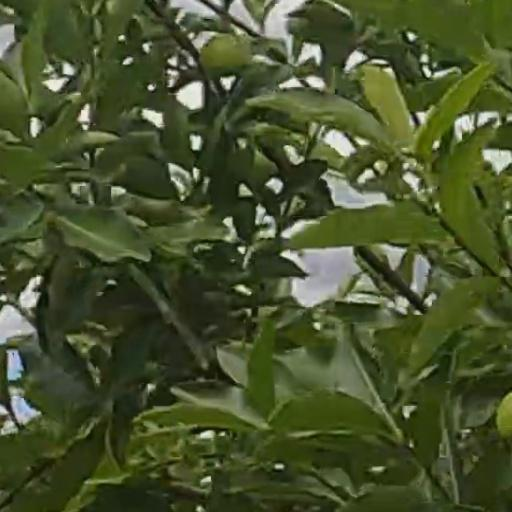acerola: (203, 35, 247, 78)
